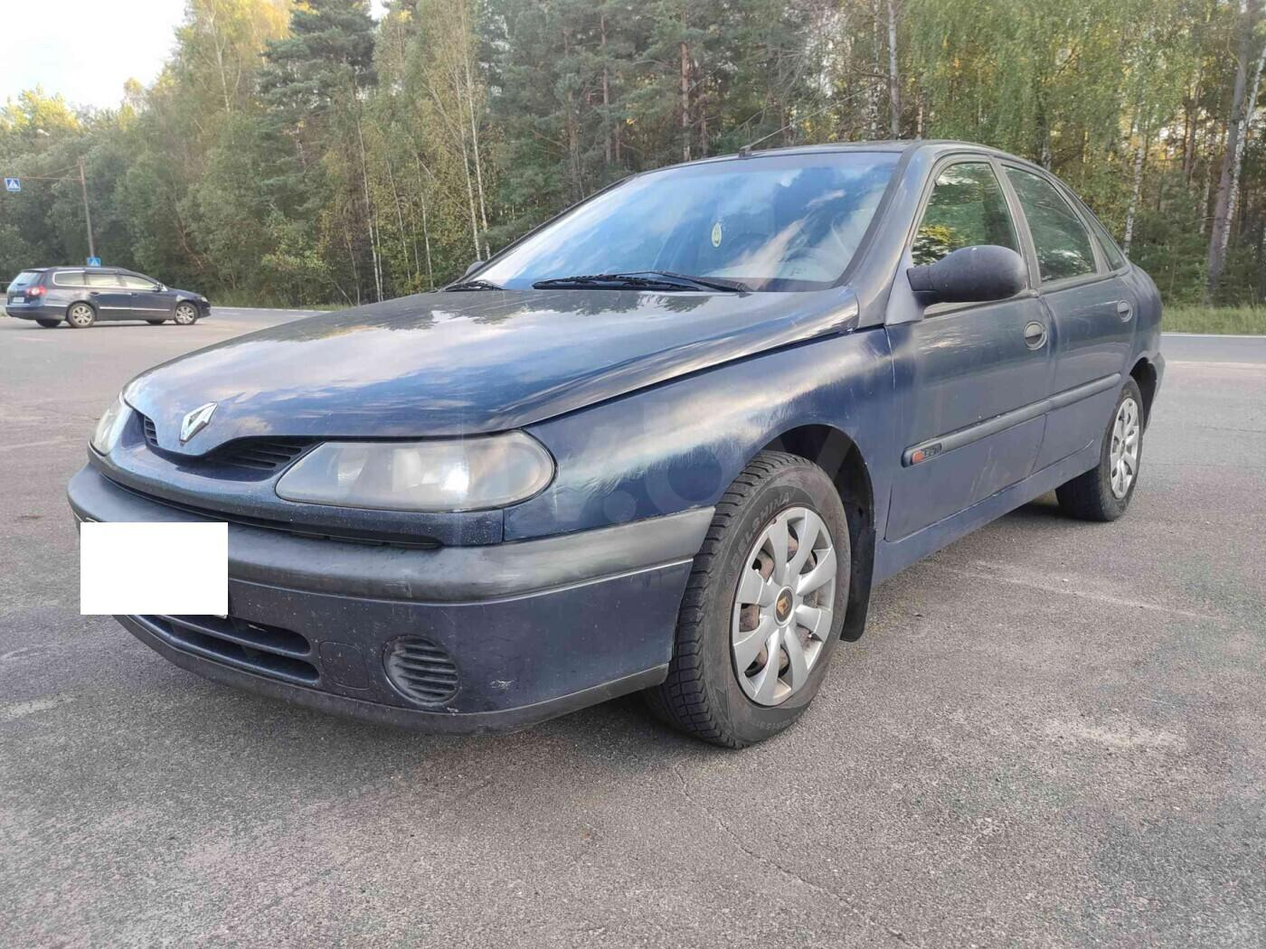Laguna_1998-2001: (61, 124, 1168, 758)
